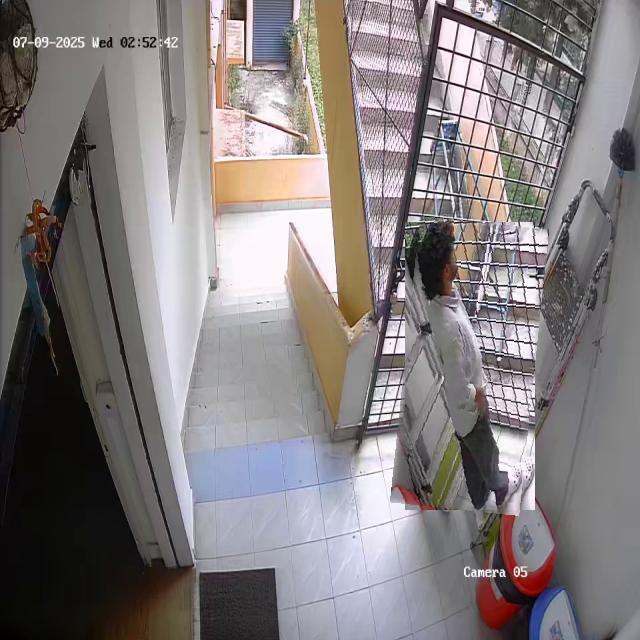person: (398, 219, 542, 513)
